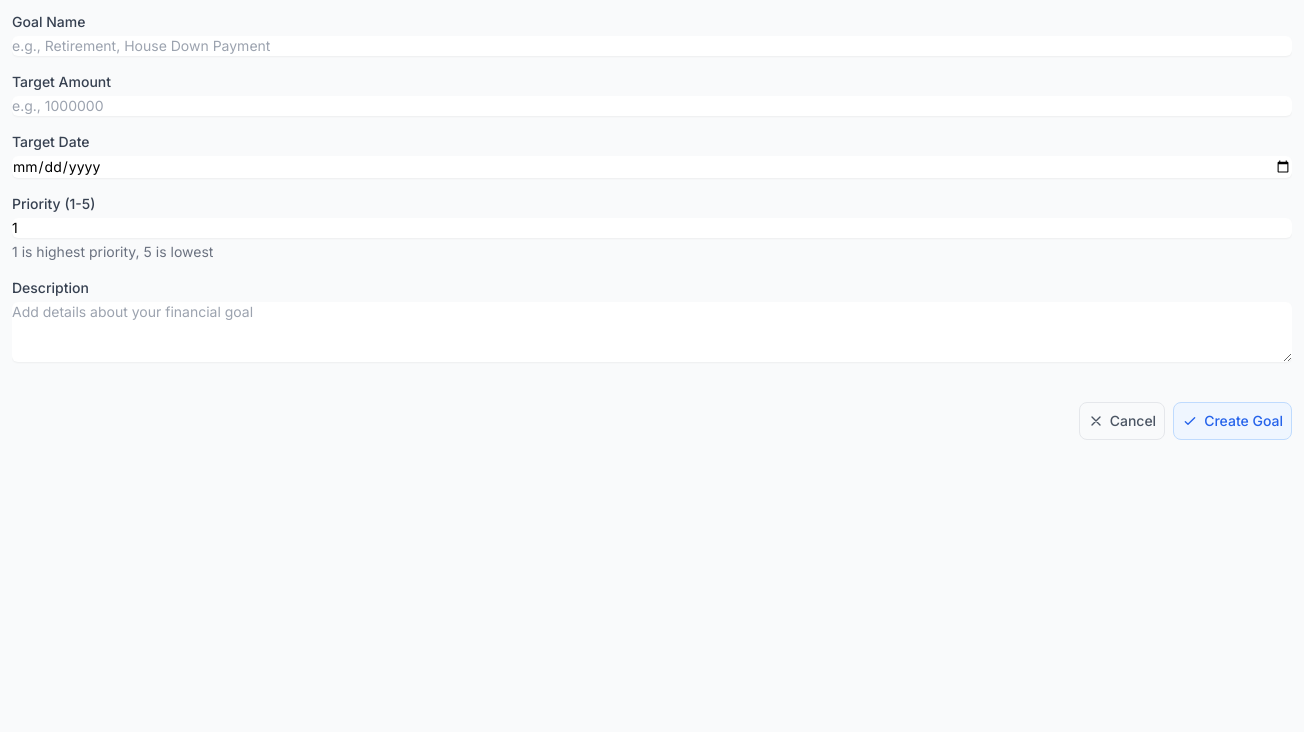
Test case: GoalForm › validates required fields
// Submit the form without filling required fields
Click the button "Create Goal".
click(1233, 421)  # box [1173,402,1292,440]
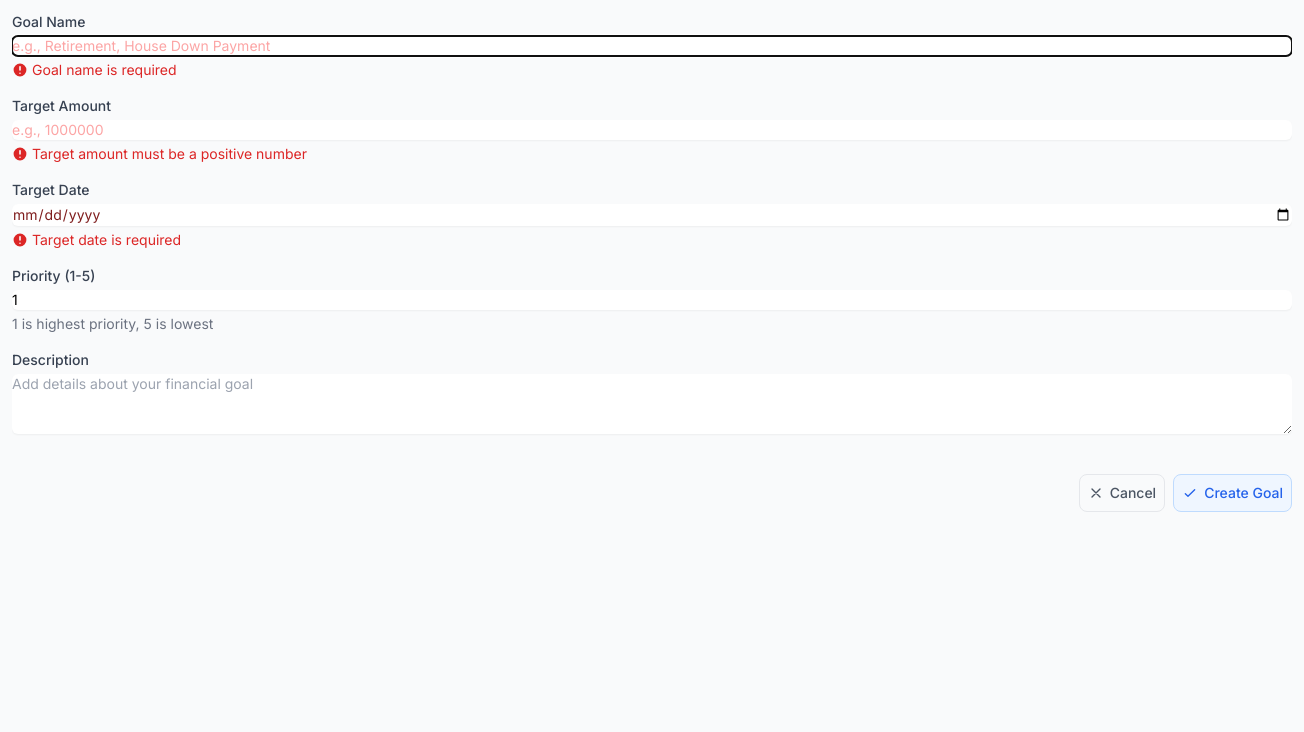
Result: the text "Goal name is required" is shown at [32,60,177,80]
Result: the text "Target amount must be a positive number" is shown at [32,144,307,164]
Result: the text "Target date is required" is shown at [32,230,181,250]
